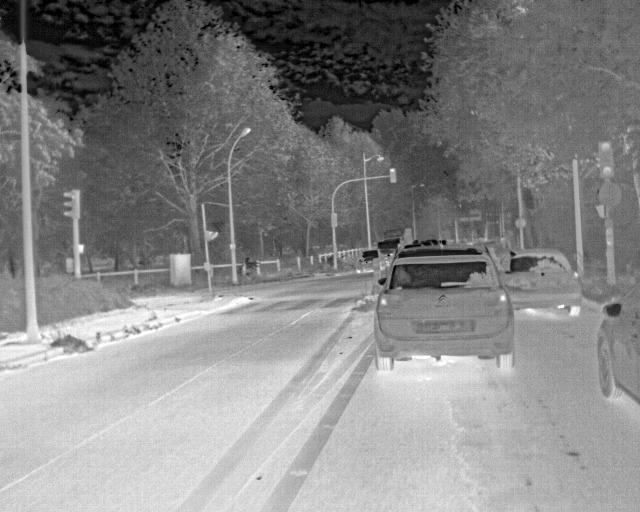car: (376, 243, 515, 373), (495, 248, 582, 317), (598, 281, 639, 406), (482, 241, 513, 272), (379, 239, 405, 268), (383, 227, 414, 249), (355, 249, 380, 273)
light: (599, 142, 614, 177), (63, 189, 76, 218), (389, 168, 396, 184), (331, 212, 337, 228), (78, 245, 83, 253)
sign: (599, 182, 620, 207), (459, 209, 482, 222), (65, 257, 73, 275), (514, 218, 526, 229)
